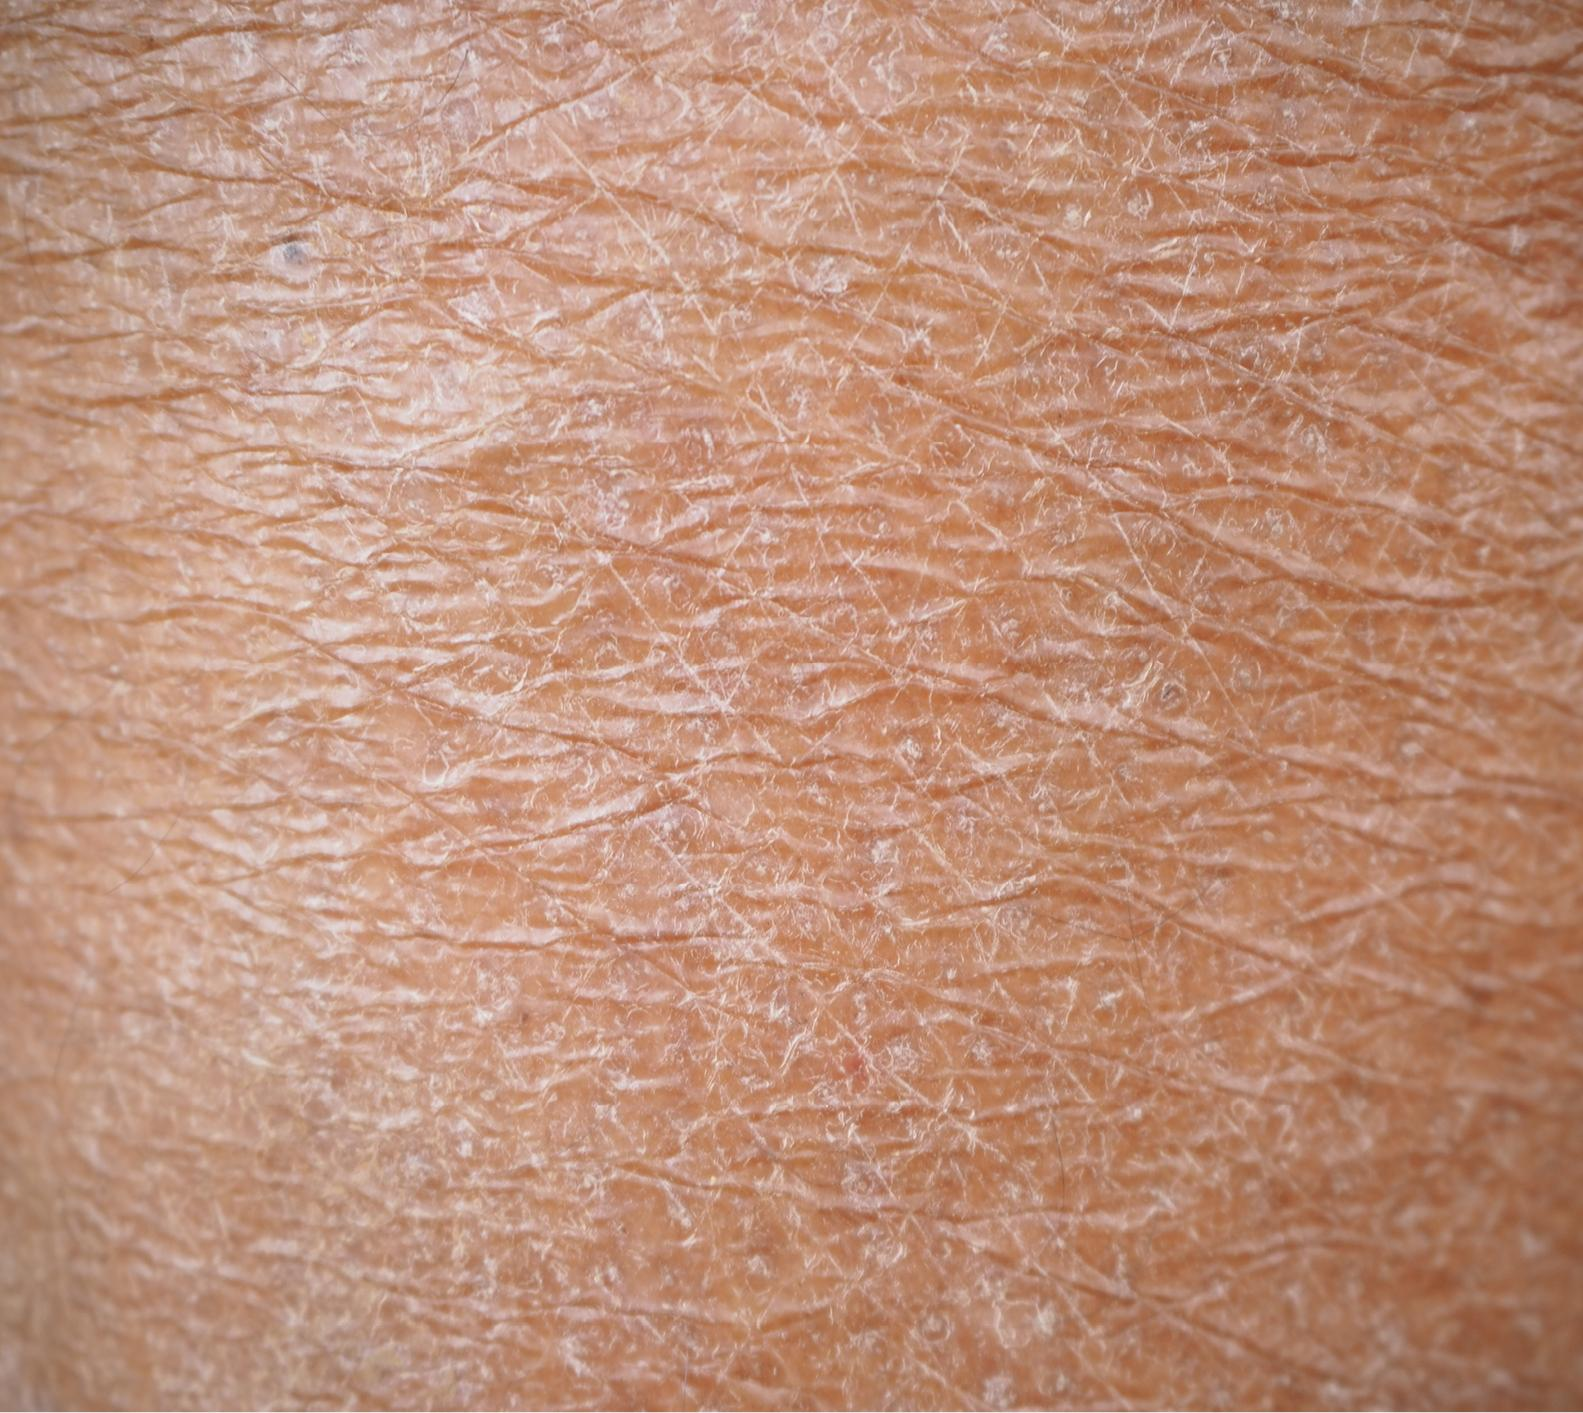Dry-Skin: (0, 8, 1582, 1412)
